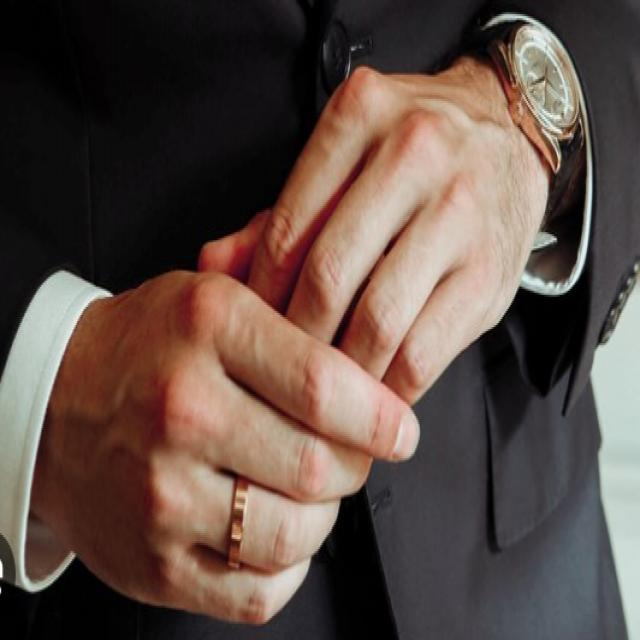Watch: (480, 16, 590, 196)
